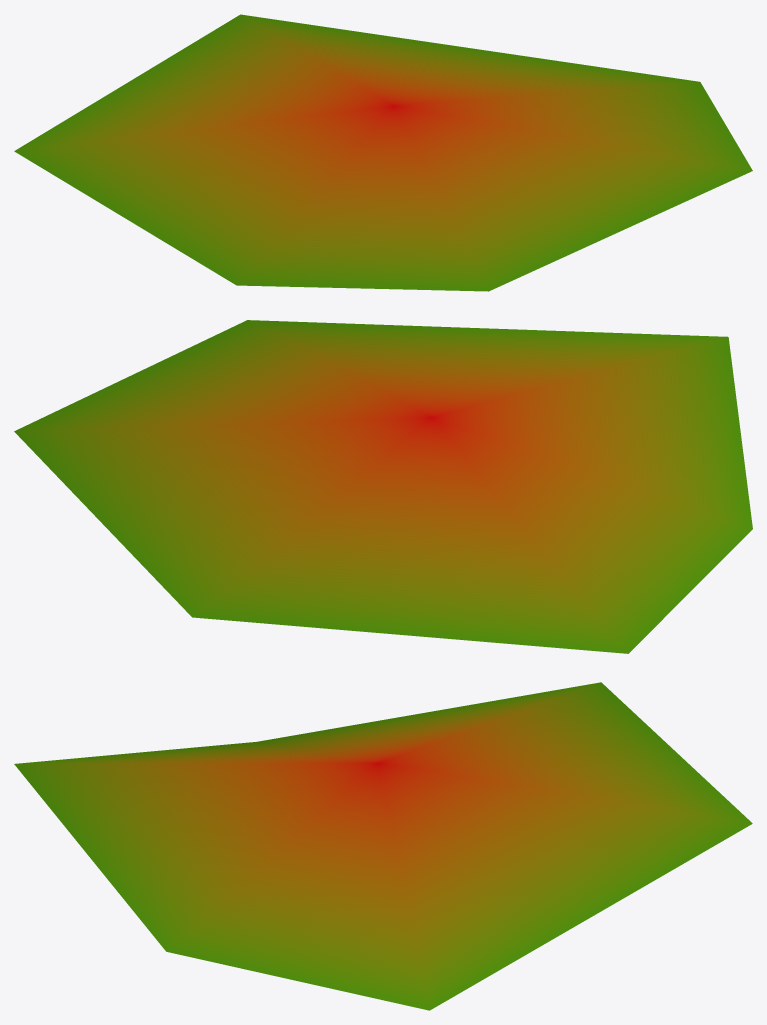
File: Var4_LOD3.fbx
3 renders of one model, top to bottom at view 1: azimuth 30°, elevation 25°; view 2: azimuth 150°, elevation 25°; view 3: azimuth 270°, elevation 25°, orthographic. The views are drawn at different scales.
Parts seen in each view (by area): view 1: _6cd5_Var4_LOD3; view 2: _6cd5_Var4_LOD3; view 3: _6cd5_Var4_LOD3.
Boxes of the visible parts, box(x1,y1,x2,y2) form: _6cd5_Var4_LOD3: box(14, 14, 752, 291); _6cd5_Var4_LOD3: box(14, 320, 752, 653); _6cd5_Var4_LOD3: box(14, 682, 752, 1010).
Bounding box in the file's own units: 52.27 × 7 × 52.76.
